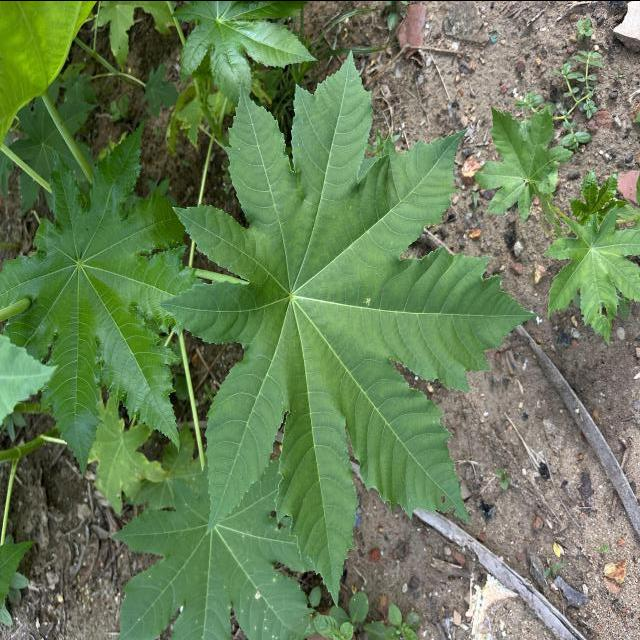Ricinus communis linn: (152, 44, 540, 613)
